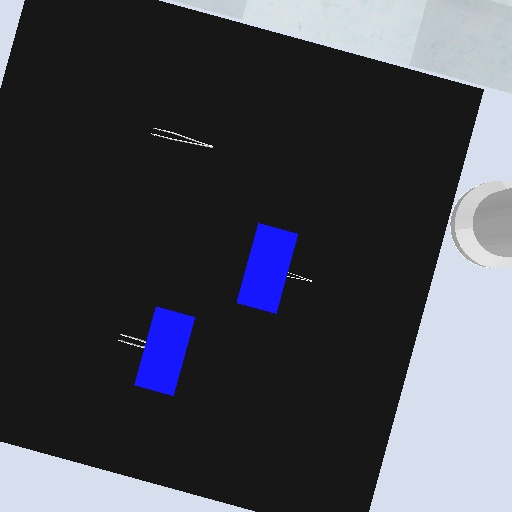pinza: (146, 125, 216, 152), (115, 332, 149, 352), (284, 270, 315, 285)
